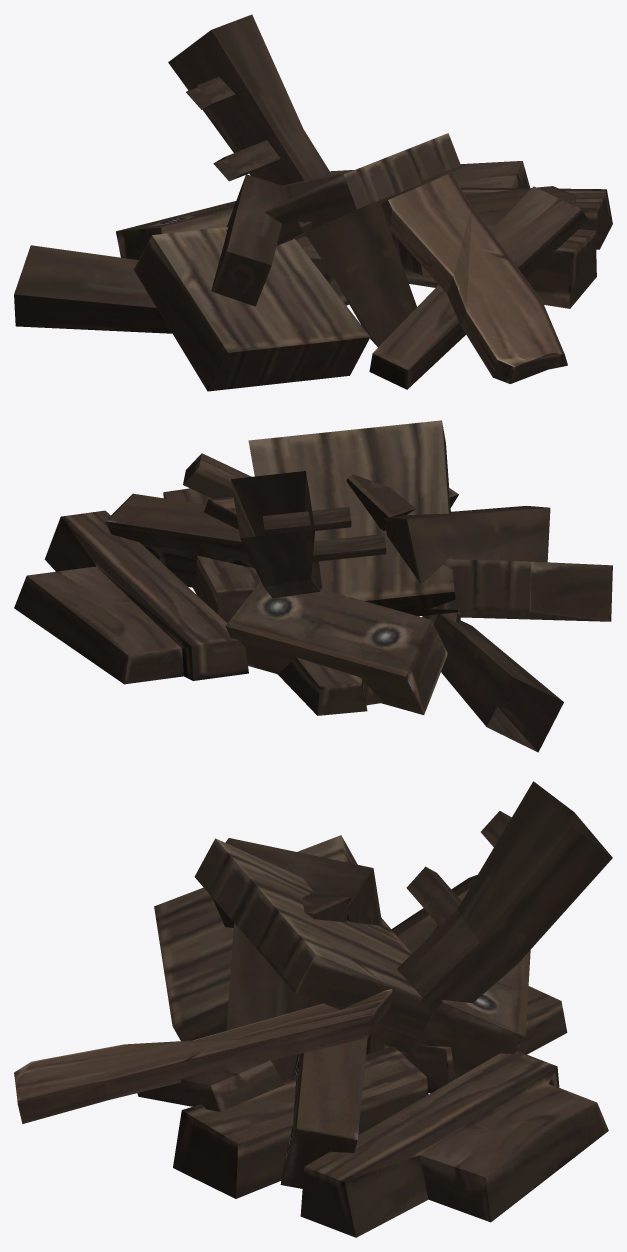
File: bandit_scrap_01.fbx
The picture shows the model from 3 angles, top to bottom: view 1: azimuth 30°, elevation 25°; view 2: azimuth 150°, elevation 25°; view 3: azimuth 270°, elevation 25°; orthographic projection. The views are drawn at different scales.
Visible parts, largest first — view 1: obj0.622; view 2: obj0.622; view 3: obj0.622.
Part boxes in pixels (x1=…): obj0.622: x1=14, y1=14, x2=612, y2=391; obj0.622: x1=14, y1=420, x2=612, y2=752; obj0.622: x1=14, y1=781, x2=612, y2=1237.
Bounding box in the file's own units: 2.7 × 1.16 × 2.11.
